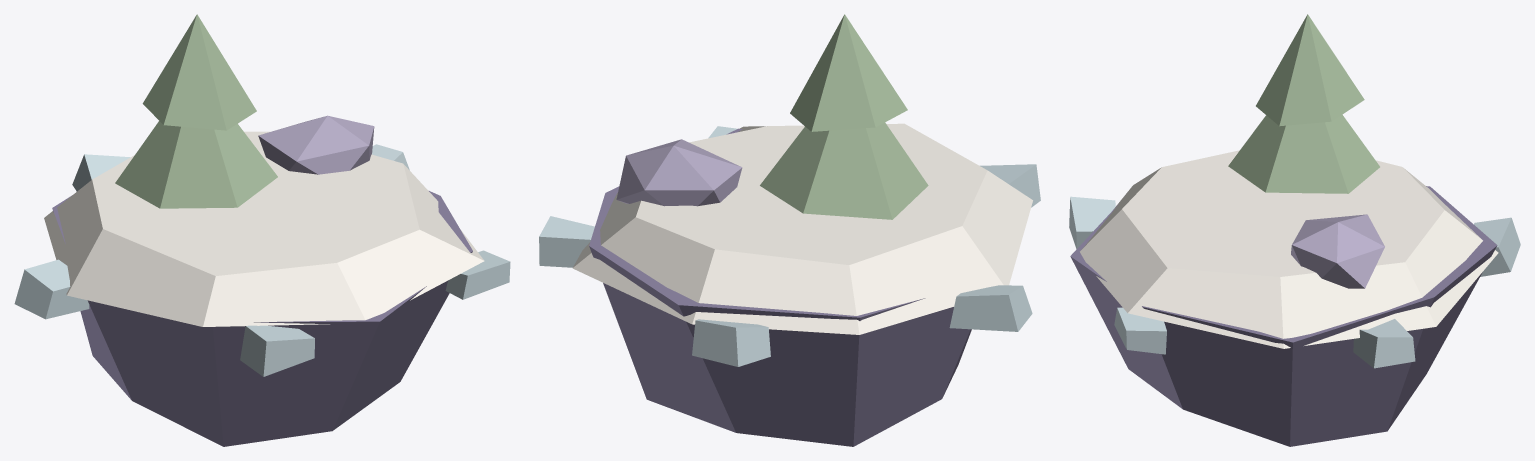
File: sb_island.glb
3 renders of one model, left to right at view 1: azimuth 30°, elevation 25°; view 2: azimuth 150°, elevation 25°; view 3: azimuth 270°, elevation 25°, orthographic. The views are drawn at different scales.
Visible parts, largest first — view 1: island; view 2: island; view 3: island.
Part boxes in pixels (x1,y1,x2,y2): island: (14,14,510,446); island: (539,14,1040,446); island: (1069,14,1520,446).
Bounding box in the file's own units: 1.02 × 0.8554 × 0.9948.
